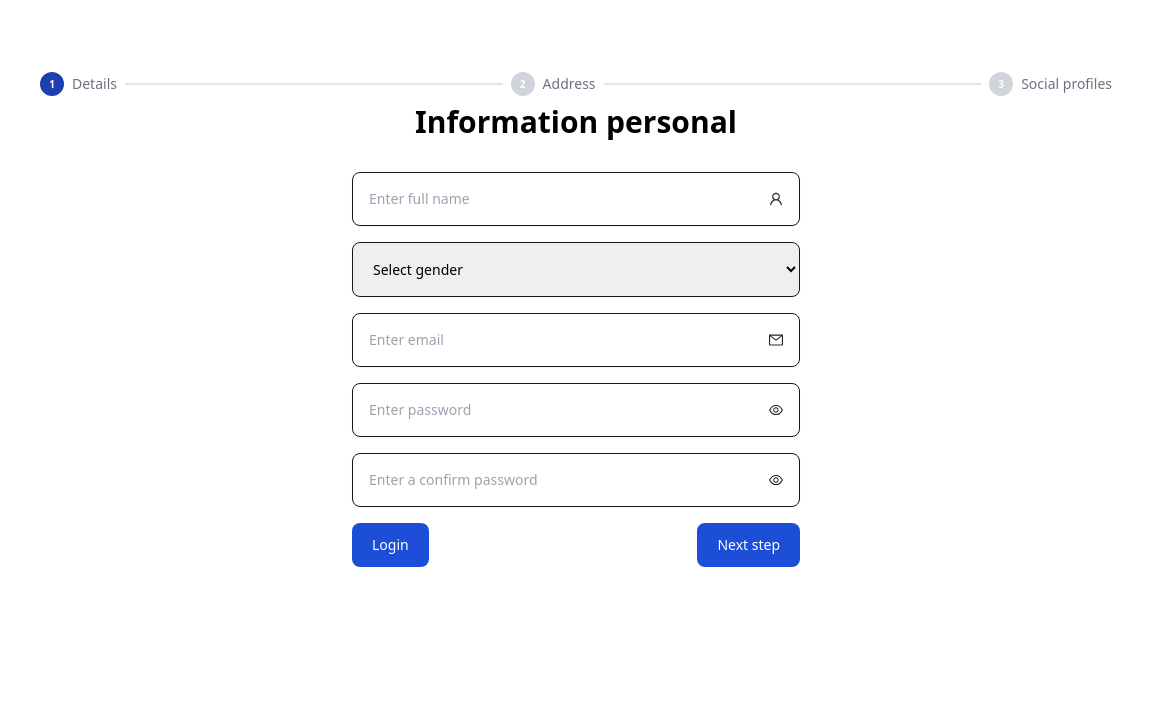
Step 1 › should show error message when fields was empty
Click the button "Next step": (749, 545) [697, 523, 800, 567]
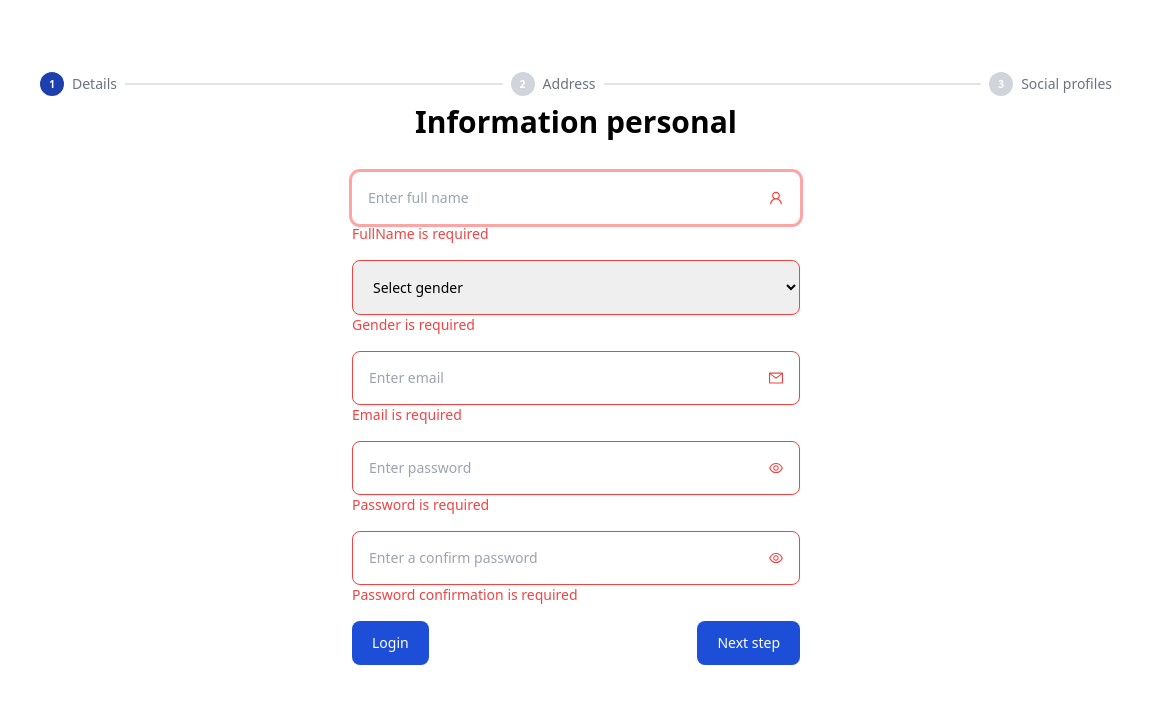
Expected: the text "FullName is required" is shown, [352, 224, 488, 243]
Expected: the text "Email is required" is shown, [352, 405, 462, 424]
Expected: the text "Gender is required" is shown, [352, 315, 475, 334]
